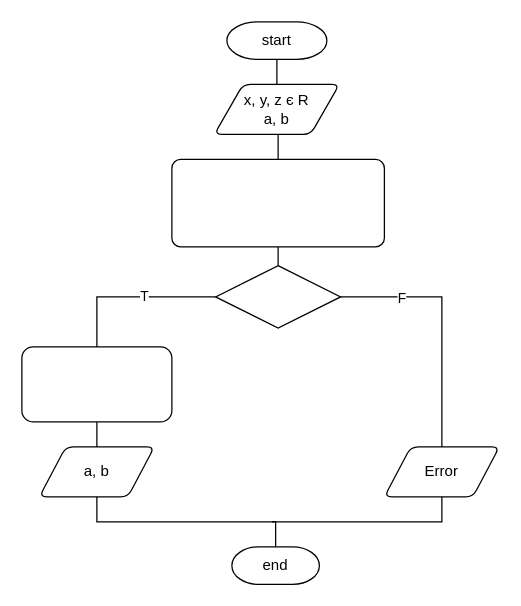
Some shapes in this 521 by 606 pixel diagram are drawn without their labels. Each missing label, with the centre of its shape:
a = ch/zn b = sin(a^(-x)) + y: [96,384]
ch є R ch = y - | x^3 |^1/2 zn є R zn = ( x^3 + 5*y^(-z) + z^2: [277,202]
zn != 0: [277,296]
